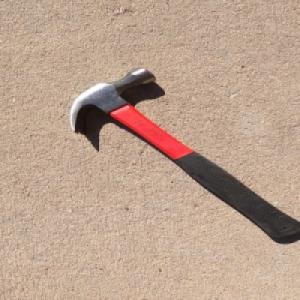Hammer: (66, 65, 300, 245)
